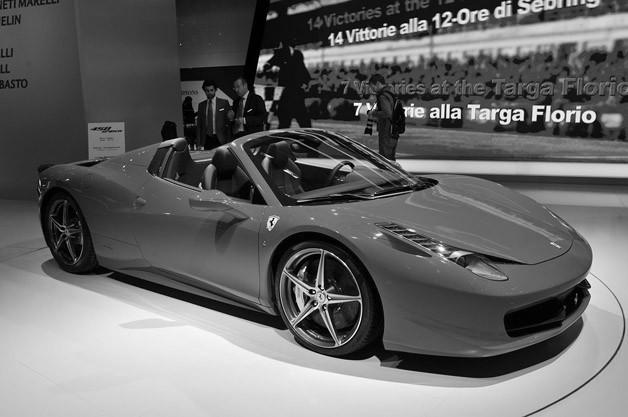car: (37, 126, 596, 357)
